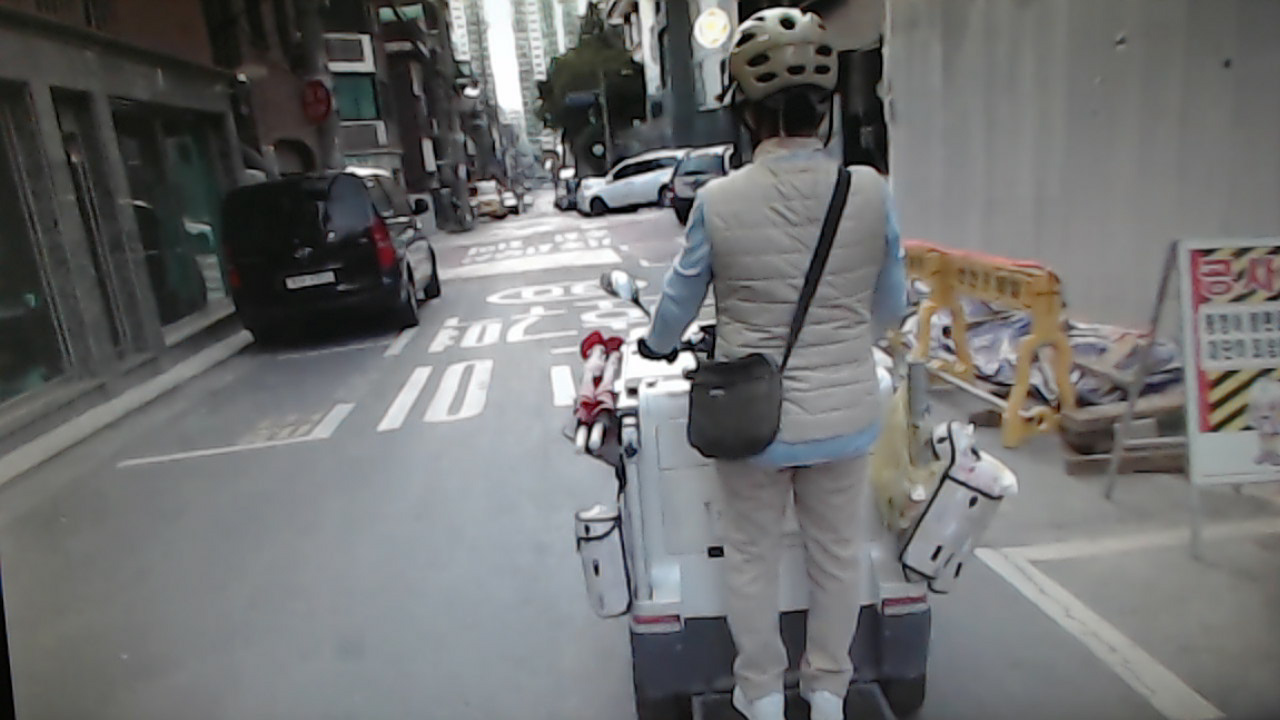Yakurut: (630, 9, 930, 720)
